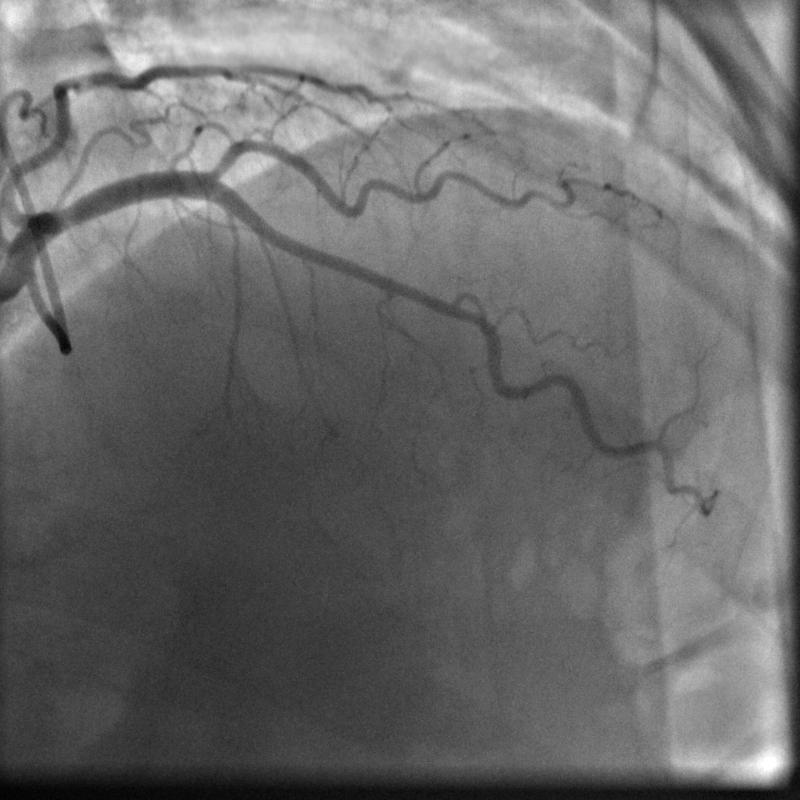Stenosis: (422, 288, 489, 326)
